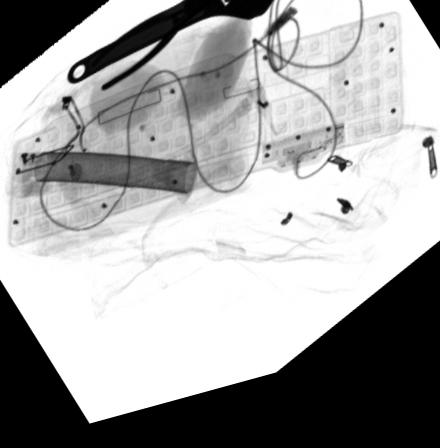Pliers: (92, 0, 224, 98)
Wrench: (67, 0, 280, 90)
